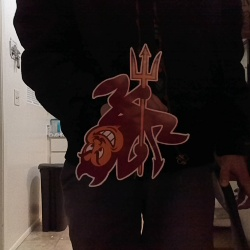sparky: (74, 42, 189, 187)
